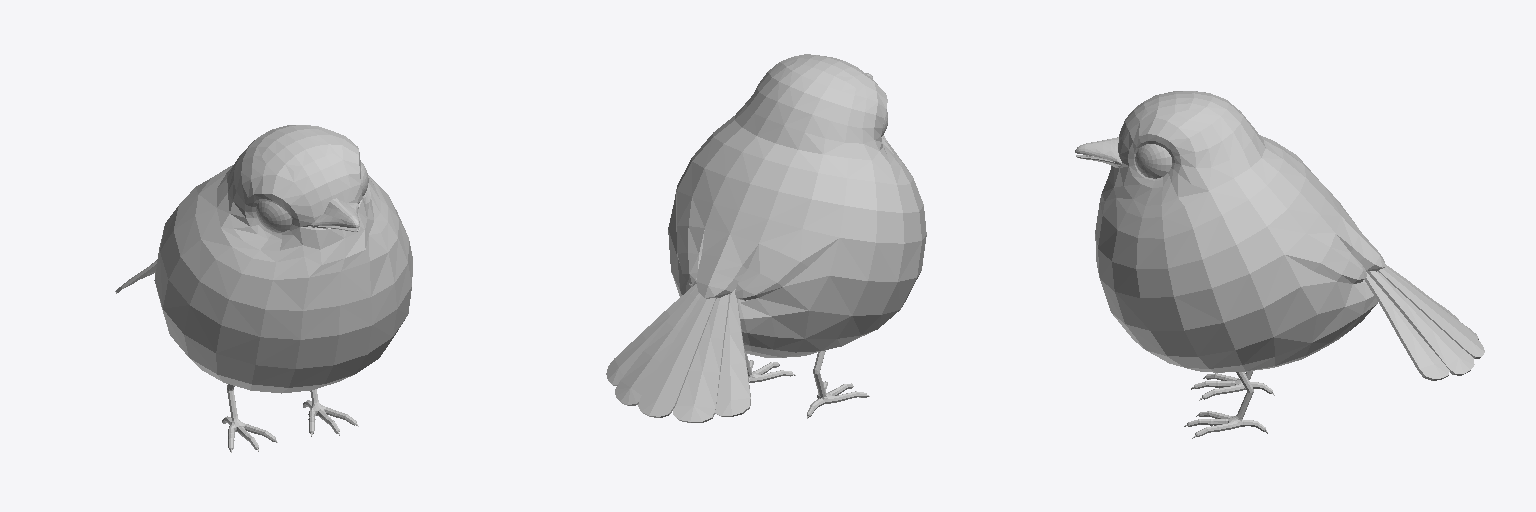
The model's file is Bird_66.obj.
3 views of the same model, side by side, from view 1: azimuth 30°, elevation 25°; view 2: azimuth 150°, elevation 25°; view 3: azimuth 270°, elevation 25° (orthographic).
Parts seen in each view (by area): view 1: Object_51; view 2: Object_51; view 3: Object_51.
Part boxes in pixels (x1,y1,x2,y2): Object_51: (115, 125, 412, 452); Object_51: (606, 54, 926, 422); Object_51: (1075, 91, 1484, 438).
Size of the model in its own units: 0.418 by 0.5617 by 0.6621.